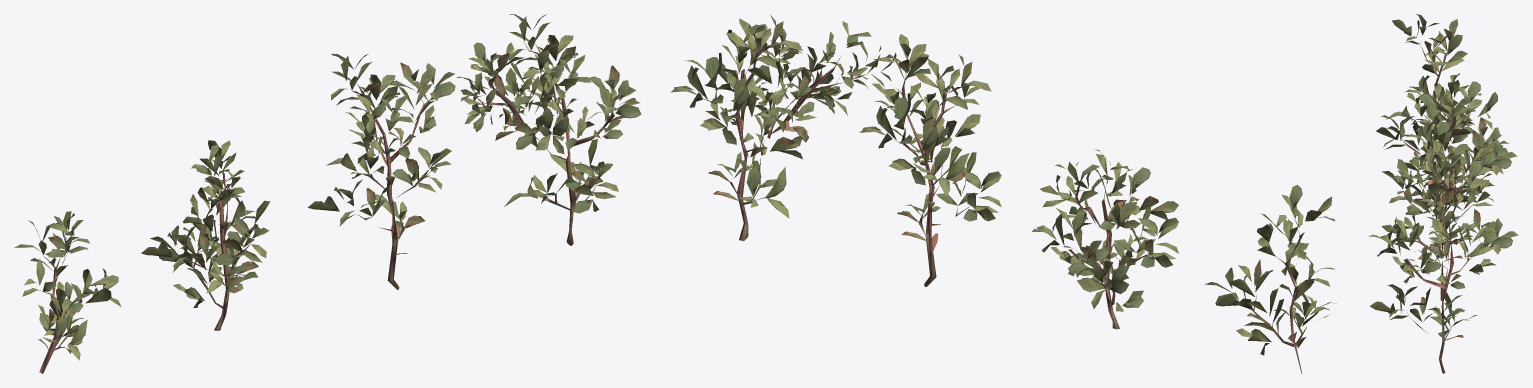
File: shrub_04.glb
3 renders of one model, left to right at view 1: azimuth 30°, elevation 25°; view 2: azimuth 150°, elevation 25°; view 3: azimuth 270°, elevation 25°, orthographic. The views are drawn at different scales.
Visible parts, largest first — view 1: shrub_04; view 2: shrub_04; view 3: shrub_04.
Part boxes in pixels (x1,y1,x2,y2): shrub_04: (14,14,641,373); shrub_04: (671,14,1336,373); shrub_04: (1368,14,1518,373).
Bounding box in the file's own units: 0.5837 × 0.2192 × 0.1461.
1 material, 1 textured.
